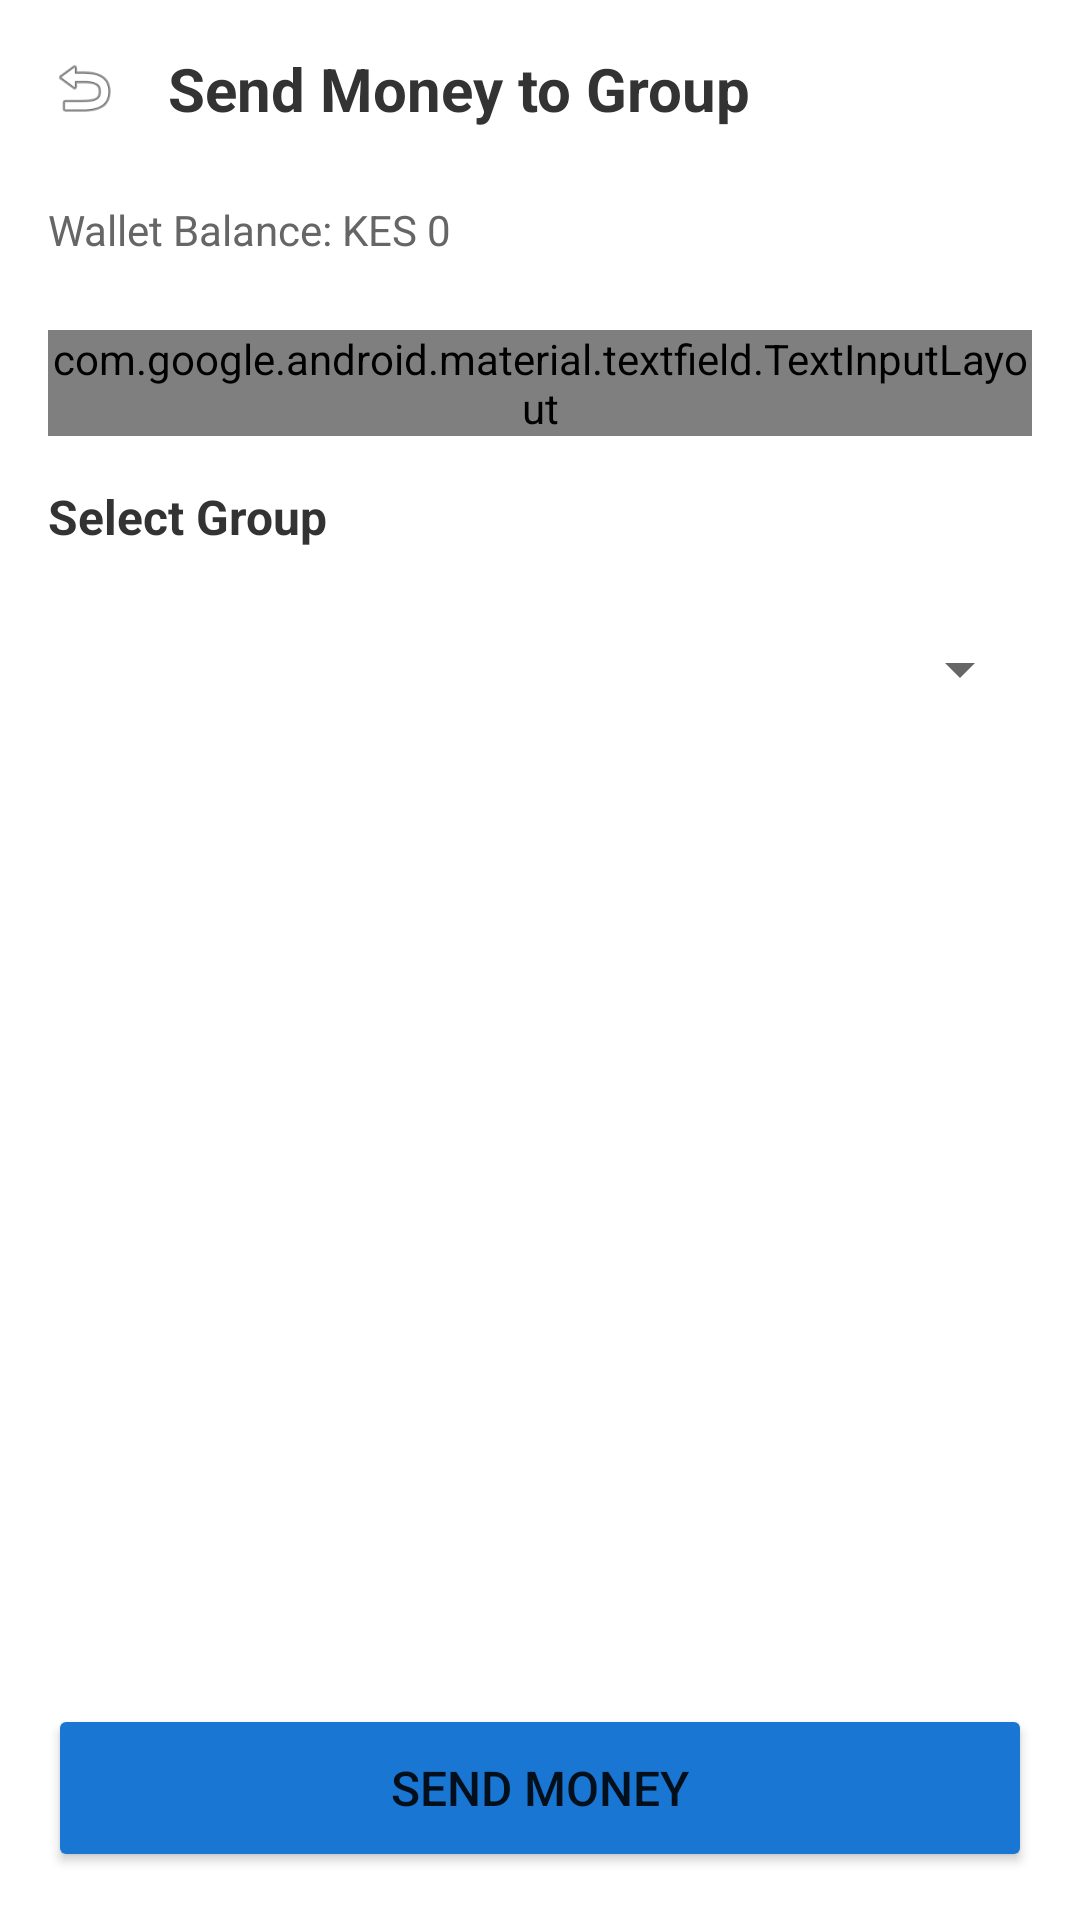

Icons on this 1080px×1920px Android screen, each with the point to tap as (x,y):
Back: (85,88)
